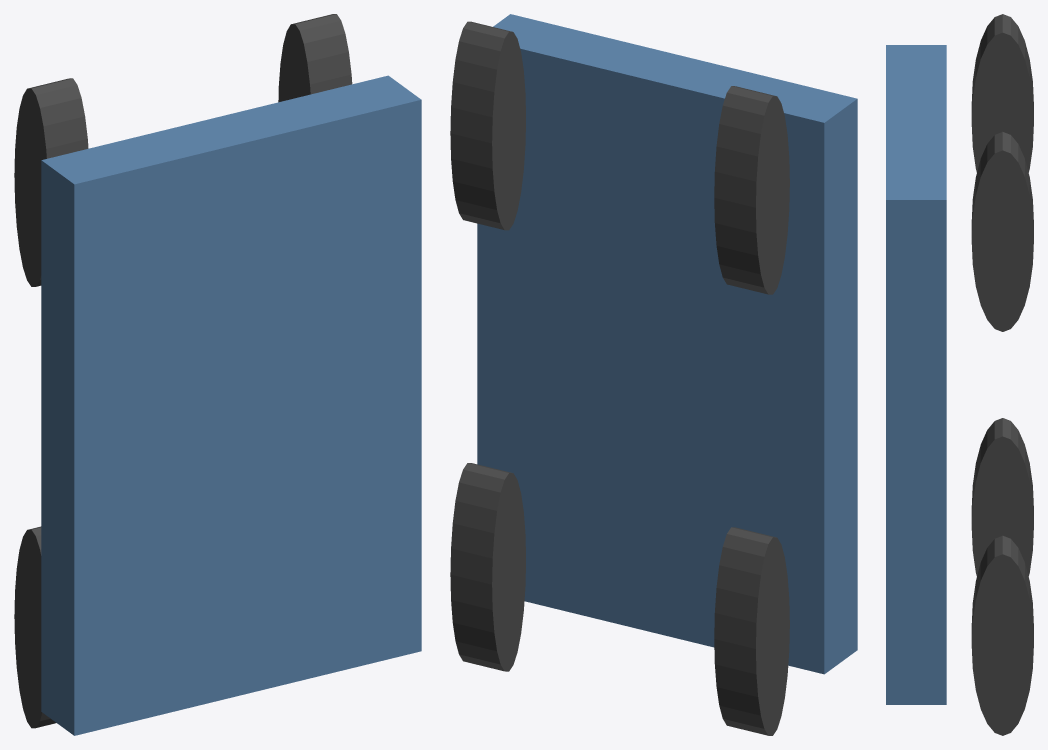
Rendered from SM_PushcartA.glb.
3 views of the same model, side by side, from view 1: azimuth 30°, elevation 25°; view 2: azimuth 150°, elevation 25°; view 3: azimuth 270°, elevation 25° (orthographic). The views are drawn at different scales.
Parts seen in each view (by area): view 1: part_00, part_02, part_04, part_01; view 2: part_00, part_01, part_02, part_04, part_03; view 3: part_00, part_04, part_03, part_01, part_02.
Boxes of the visible parts, box(x1,y1,x2,y2) form: part_00: box(41, 75, 421, 735); part_02: box(14, 78, 88, 286); part_04: box(278, 14, 352, 102); part_01: box(14, 526, 55, 728); part_00: box(477, 14, 857, 674); part_01: box(714, 527, 789, 735); part_02: box(714, 86, 789, 294); part_04: box(450, 21, 525, 230); part_03: box(450, 463, 525, 671); part_00: box(886, 45, 946, 704); part_04: box(971, 132, 1033, 331); part_03: box(971, 535, 1033, 735); part_01: box(971, 418, 1033, 575); part_02: box(971, 14, 1033, 172).
Size of the model in its own units: 0.9357 by 1.65 by 0.3774.
